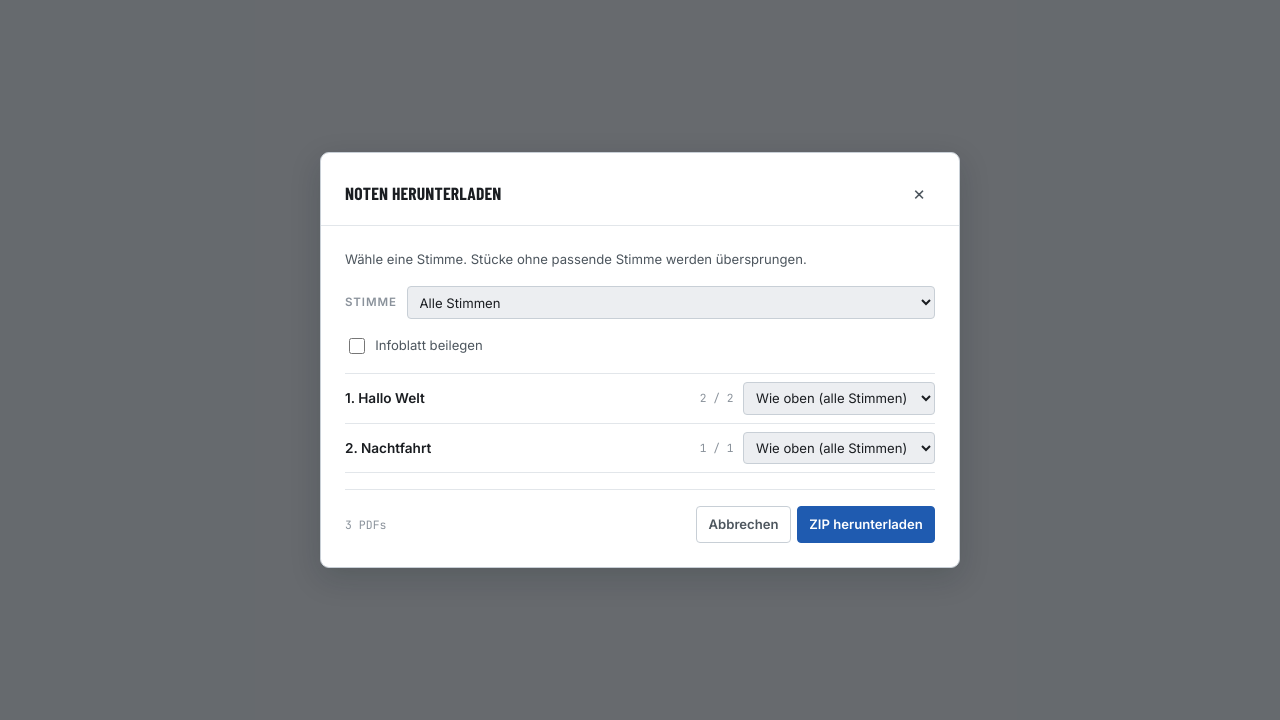
Test case: SetlistDownloadDialogComponent › should disable the download when no sheets are selected and no info is wanted
Select "Keine Noten" in the dropdown with id "global-part" at (671, 302), box [406,286,935,319]
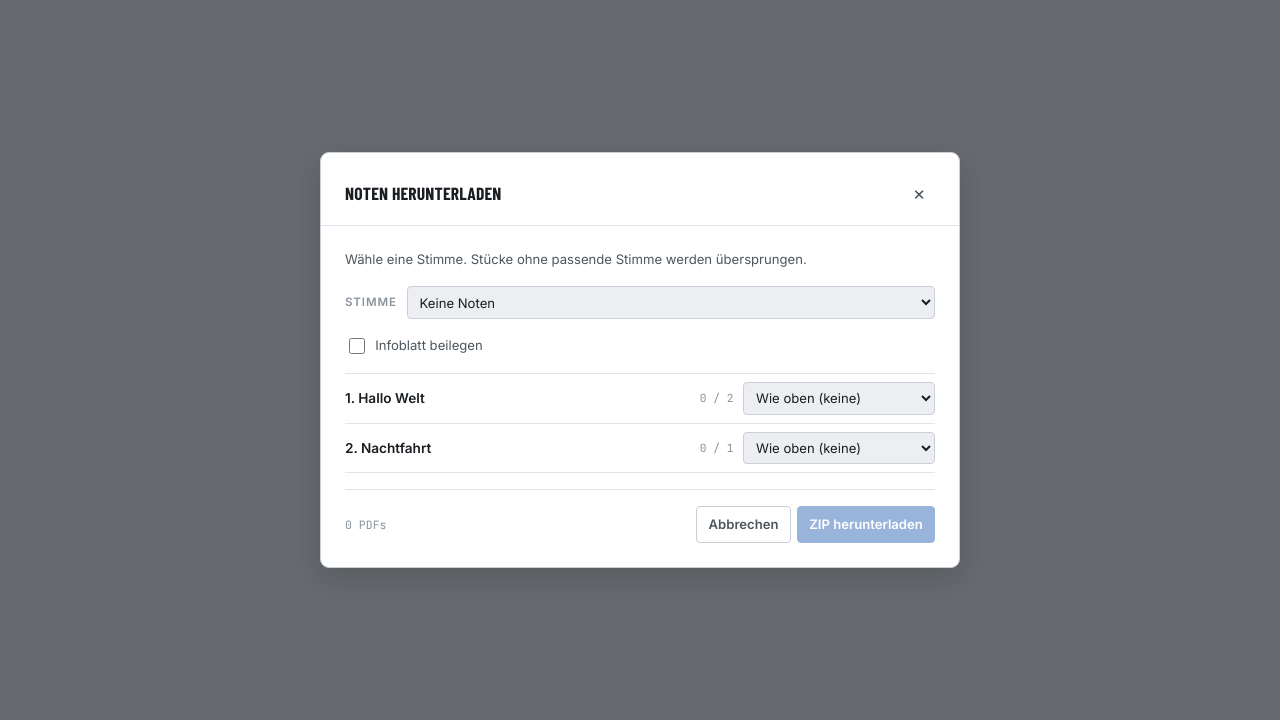
Check: the text "0 PDFs" is shown, box [345,516,386,533]
Check: the button with class "download-btn--primary" is disabled, box [797,506,935,543]
